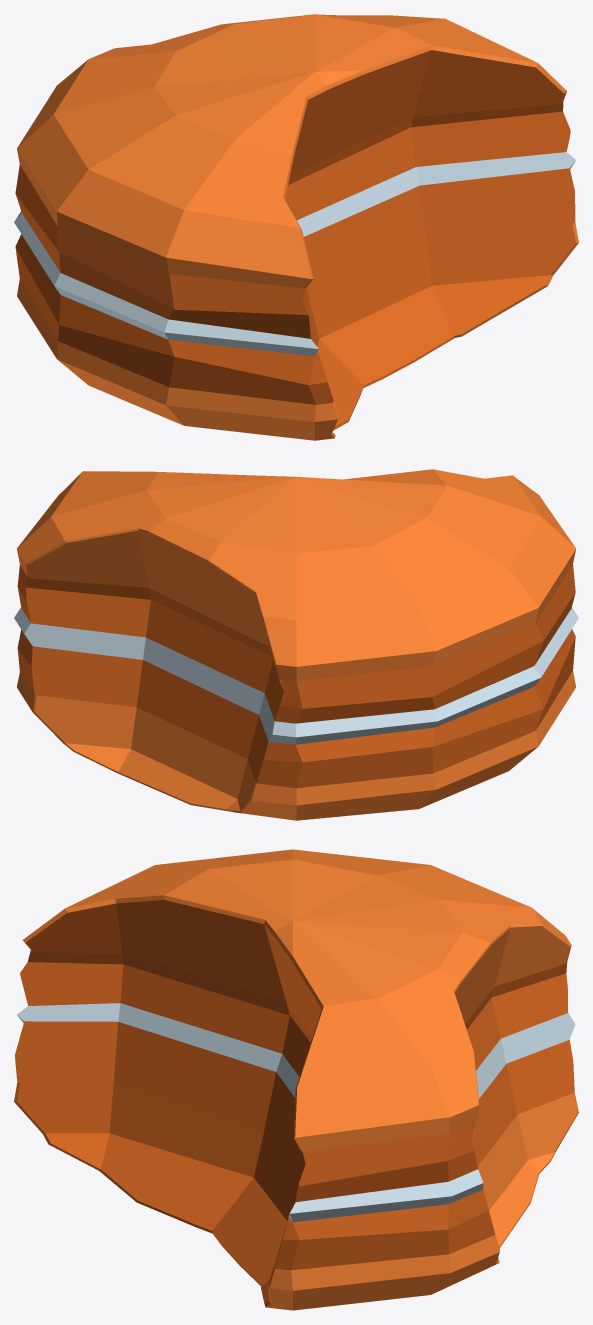
File: MakaronState4.fbx
The picture shows the model from 3 angles, top to bottom: view 1: azimuth 30°, elevation 25°; view 2: azimuth 150°, elevation 25°; view 3: azimuth 270°, elevation 25°; orthographic projection. The views are drawn at different scales.
Parts seen in each view (by area): view 1: MakaronState4; view 2: MakaronState4; view 3: MakaronState4.
Boxes of the visible parts, x1,y1,x2,y2 form: MakaronState4: [14, 14, 578, 440]; MakaronState4: [14, 469, 578, 820]; MakaronState4: [14, 849, 578, 1310].
Size of the model in its own units: 56.19 by 31.03 by 50.03.
